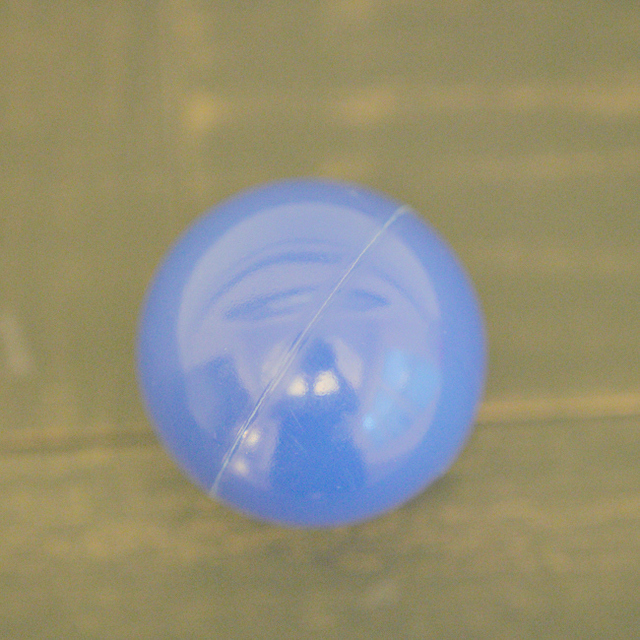Ball: (136, 180, 480, 520)
